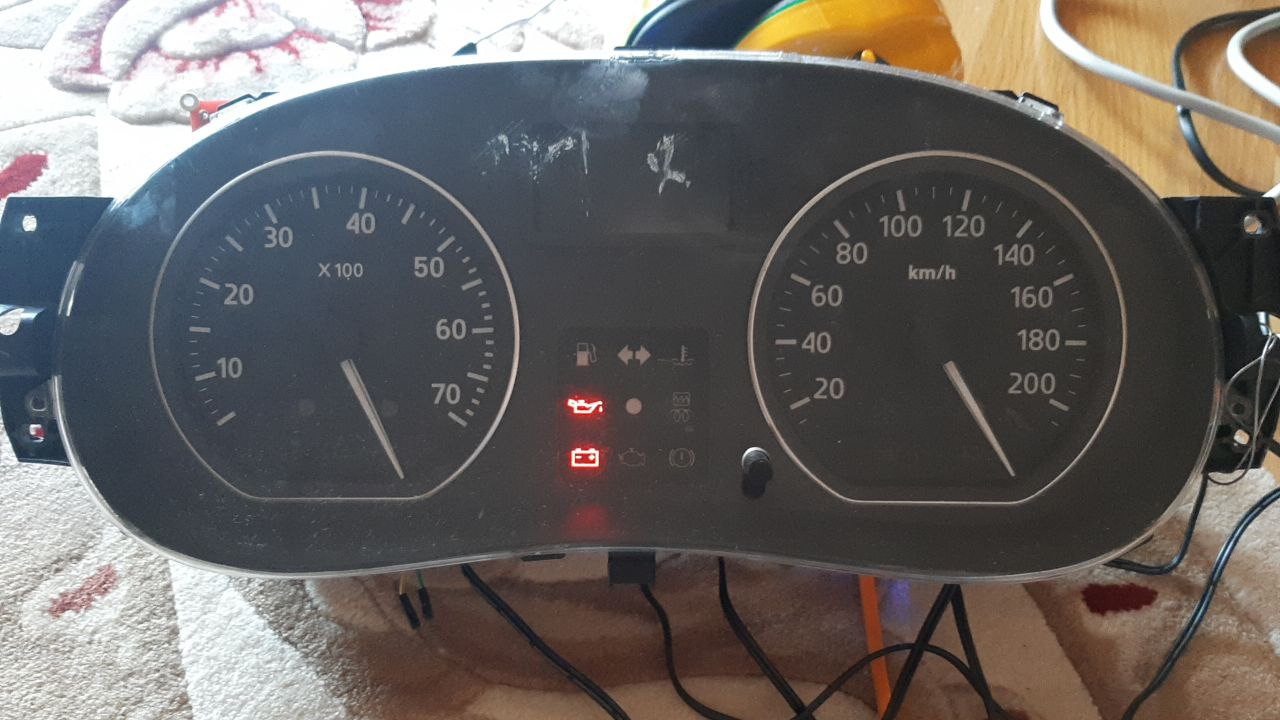accumulator: (565, 439, 602, 473)
oil: (564, 394, 606, 418)
